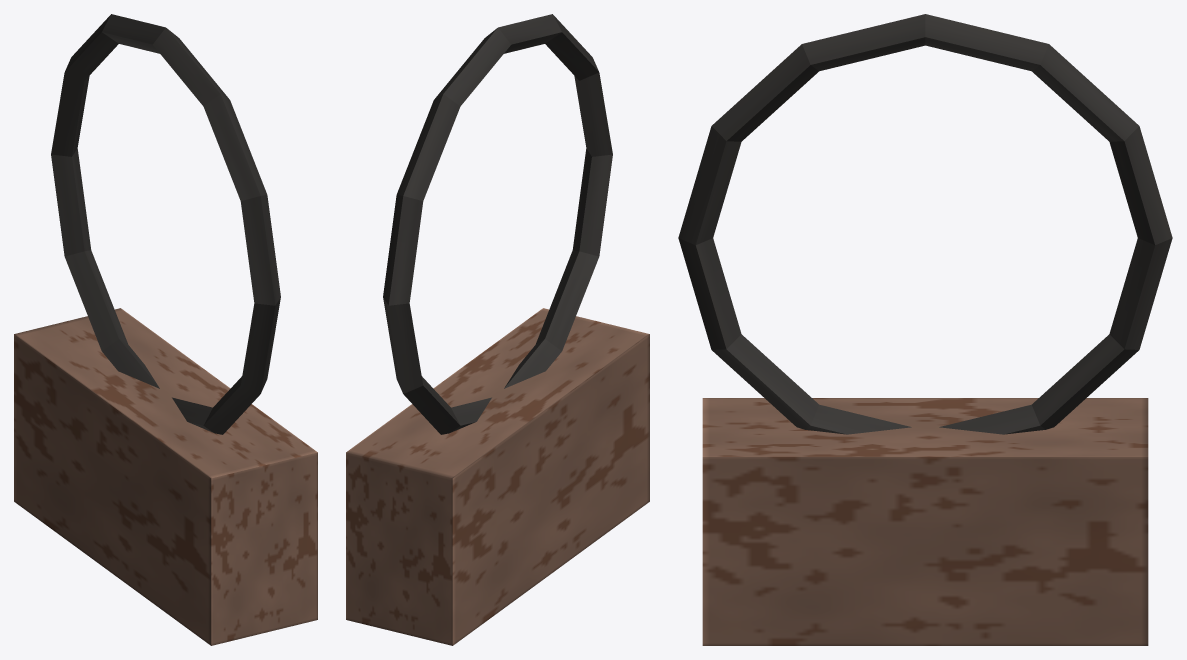
File: pipe_saddle.fbx
3 renders of one model, left to right at view 1: azimuth 30°, elevation 25°; view 2: azimuth 150°, elevation 25°; view 3: azimuth 270°, elevation 25°, orthographic. The views are drawn at different scales.
Parts seen in each view (by area): view 1: pipe_saddle; view 2: pipe_saddle; view 3: pipe_saddle.
Boxes of the visible parts, x1,y1,x2,y2 form: pipe_saddle: (14, 14, 317, 645); pipe_saddle: (346, 14, 649, 645); pipe_saddle: (678, 14, 1172, 645).
Size of the model in its own units: 0.2 by 0.955 by 0.71.
Materials: 1 (1 with a texture image).
